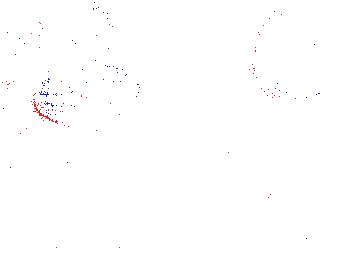moon jellyfish: (252, 1, 346, 102), (32, 66, 142, 130), (39, 3, 94, 87), (1, 1, 36, 88)
